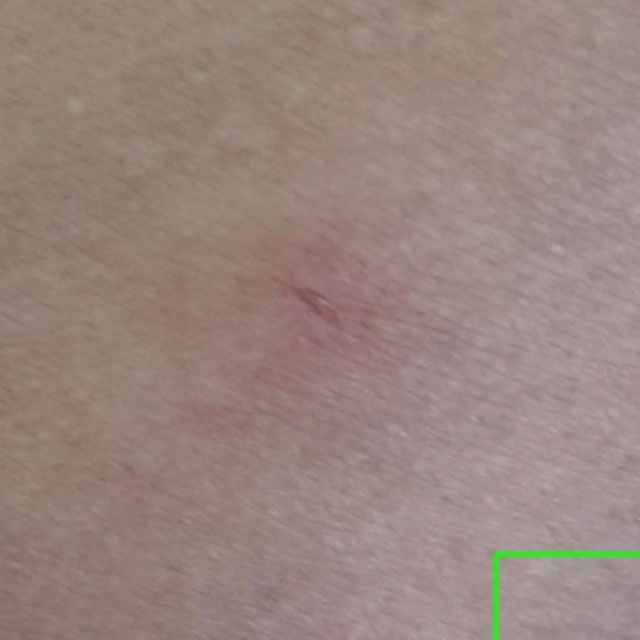Seborrheic Dermatitis: (496, 554, 639, 639)
